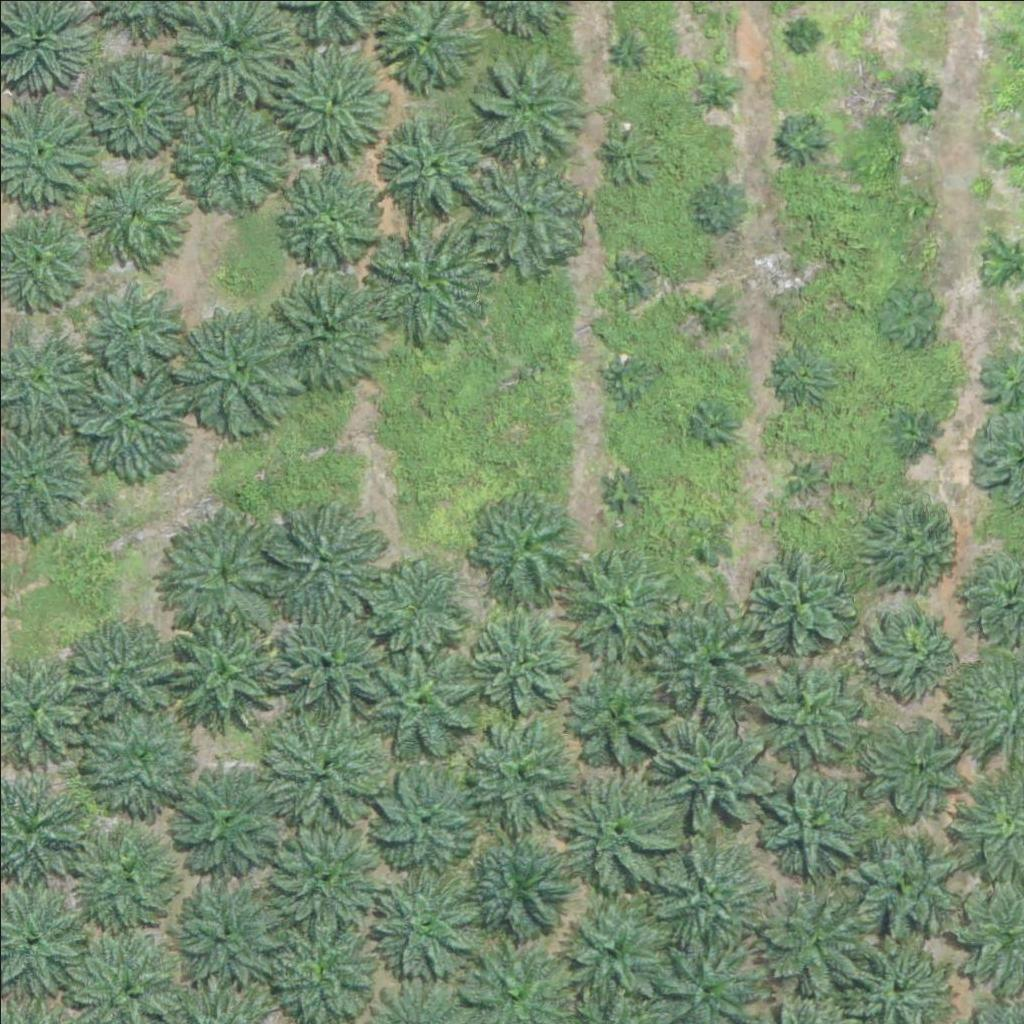Kelapa_Sawit: (745, 643, 870, 769), (644, 834, 769, 960), (649, 699, 774, 825), (649, 584, 774, 710), (548, 890, 673, 1016), (552, 769, 677, 895), (562, 656, 687, 782), (366, 852, 491, 978), (361, 632, 486, 758), (256, 812, 381, 938), (257, 704, 382, 830), (261, 496, 386, 622), (162, 611, 287, 737), (158, 507, 283, 633), (71, 353, 196, 479), (177, 300, 302, 426), (360, 215, 485, 341), (168, 92, 293, 218), (70, 812, 195, 937), (81, 694, 206, 819), (472, 607, 585, 721), (460, 714, 573, 828), (359, 545, 472, 659), (270, 273, 383, 387), (854, 831, 967, 944), (740, 541, 853, 654), (468, 489, 581, 602), (457, 827, 570, 940), (173, 761, 286, 874), (172, 875, 285, 988), (67, 616, 180, 729), (280, 47, 393, 160), (761, 879, 873, 993), (759, 767, 871, 880), (562, 541, 674, 654), (368, 757, 480, 870), (276, 601, 388, 714), (472, 155, 584, 268), (463, 49, 575, 162), (868, 715, 968, 816), (866, 598, 966, 699), (868, 485, 968, 586), (85, 276, 185, 377), (382, 117, 482, 218), (87, 162, 187, 262), (89, 53, 189, 153), (283, 169, 383, 269), (874, 278, 949, 353), (688, 173, 751, 236), (771, 342, 833, 405), (602, 128, 652, 179), (779, 115, 829, 166), (686, 293, 736, 344), (688, 403, 738, 453), (887, 69, 937, 119), (602, 256, 652, 306), (599, 466, 649, 516), (603, 355, 653, 405), (783, 451, 833, 501), (680, 520, 730, 570), (691, 66, 741, 116), (891, 185, 929, 223), (893, 410, 931, 447), (781, 265, 806, 290), (615, 36, 640, 61), (792, 22, 817, 47), (993, 29, 1018, 54), (993, 145, 1018, 170)
